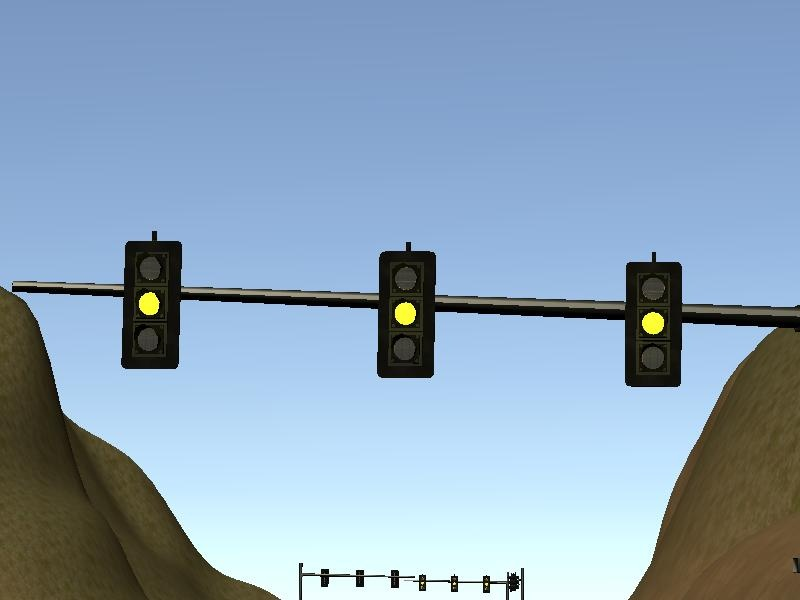YELLOW: (120, 228, 183, 371), (375, 241, 434, 381), (623, 251, 682, 386)
